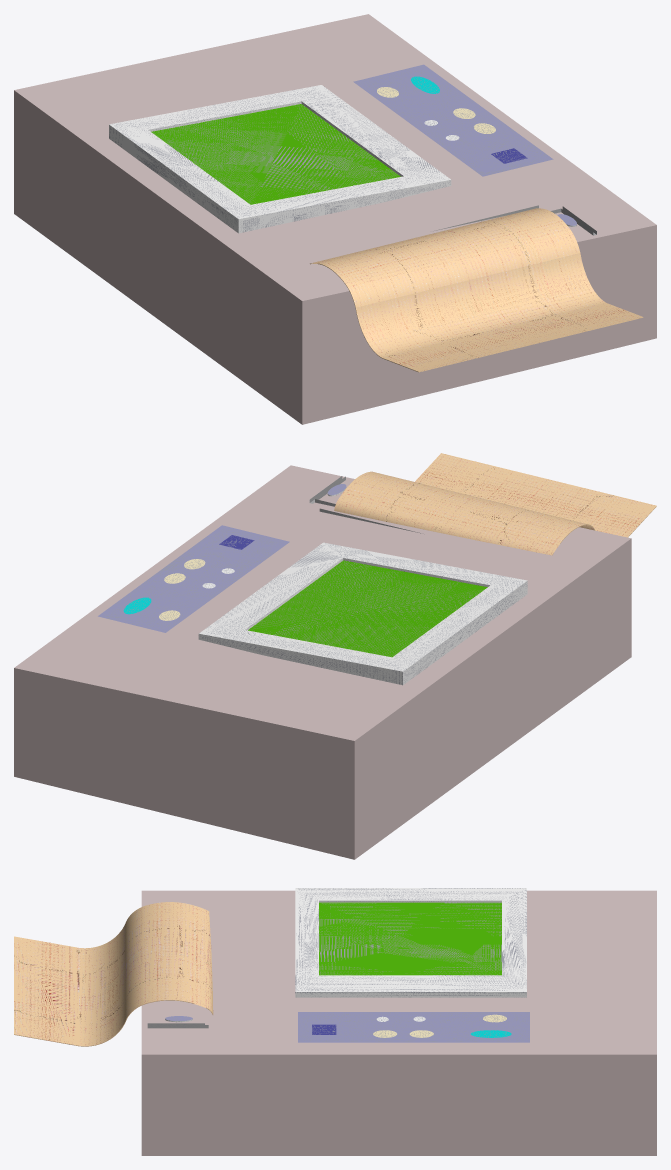
The model's file is electrocardiograph.fbx.
3 views of the same model, one above another, from view 1: azimuth 30°, elevation 25°; view 2: azimuth 150°, elevation 25°; view 3: azimuth 270°, elevation 25° (orthographic). The views are drawn at different scales.
Parts seen in each view (by area): view 1: pCube1, Компонент_186, ID80, ID98, ID136, ID52; view 2: pCube1, Компонент_186, ID80, ID98, ID136, ID52; view 3: pCube1, Компонент_186, ID98, ID80, ID136, ID52.
Boxes of the visible parts, x1=… form: pCube1: x1=14, y1=14, x2=656, y2=424; Компонент_186: x1=310, y1=208, x2=643, y2=372; ID80: x1=109, y1=85, x2=451, y2=233; ID98: x1=151, y1=104, x2=400, y2=204; ID136: x1=353, y1=64, x2=553, y2=176; ID52: x1=149, y1=101, x2=403, y2=176; pCube1: x1=14, y1=465, x2=631, y2=859; Компонент_186: x1=334, y1=453, x2=656, y2=555; ID80: x1=198, y1=542, x2=527, y2=685; ID98: x1=248, y1=560, x2=487, y2=657; ID136: x1=98, y1=525, x2=289, y2=632; ID52: x1=245, y1=558, x2=489, y2=630; pCube1: x1=141, y1=890, x2=656, y2=1155; Компонент_186: x1=14, y1=902, x2=213, y2=1046; ID98: x1=319, y1=902, x2=501, y2=975; ID80: x1=295, y1=888, x2=526, y2=997; ID136: x1=298, y1=1012, x2=529, y2=1042; ID52: x1=319, y1=900, x2=501, y2=902.
Size of the model in its own units: 30 by 11.1 by 52.71.
Materials: 11 (1 with a texture image).
